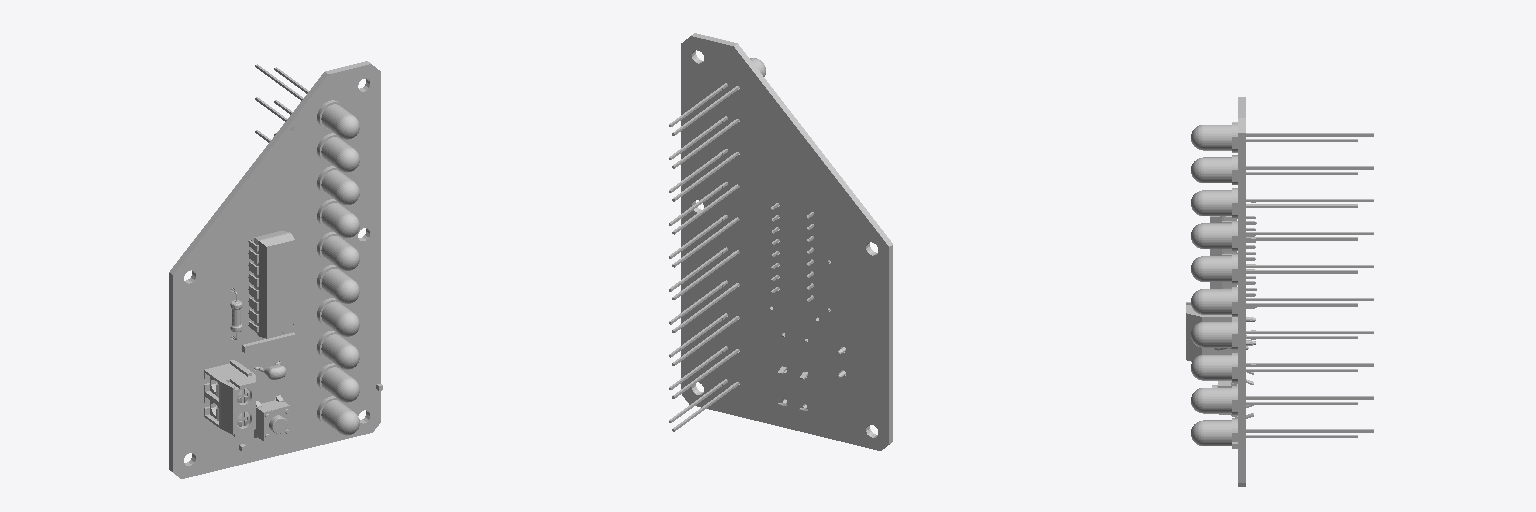
Rendered from Decimal Counter V1 v1.obj.
3 renders of one model, left to right at view 1: azimuth 30°, elevation 25°; view 2: azimuth 150°, elevation 25°; view 3: azimuth 270°, elevation 25°, orthographic.
Parts seen in each view (by area): view 1: Solid1, Solid1:2, Solid1:23, Solid1:26, Solid1:6, Solid1:4, Solid1:10, Solid1:22, Solid1:12, Solid1:14, Solid1:18, Solid1:8 (+2 smaller); view 2: Solid1; view 3: Solid1, Solid1:18, Solid1:10, Solid1:12, Solid1:14, Solid1:16, Solid1:20, Solid1:8, Solid1:6, Solid1:22, Solid1:4, Solid1:23 (+1 smaller).
Part boxes in pixels (left/top/right/bottom): Solid1: left=169, top=61, right=380, bottom=478; Solid1:2: left=248, top=231, right=294, bottom=338; Solid1:23: left=204, top=360, right=255, bottom=436; Solid1:26: left=254, top=395, right=289, bottom=440; Solid1:6: left=317, top=100, right=359, bottom=139; Solid1:4: left=317, top=396, right=359, bottom=435; Solid1:10: left=317, top=331, right=359, bottom=369; Solid1:22: left=317, top=133, right=359, bottom=172; Solid1:12: left=317, top=298, right=359, bottom=336; Solid1:14: left=317, top=265, right=359, bottom=303; Solid1:18: left=317, top=199, right=359, bottom=237; Solid1:8: left=317, top=363, right=359, bottom=402; Solid1: left=681, top=33, right=892, bottom=450; Solid1: left=1238, top=97, right=1245, bottom=486; Solid1:18: left=1191, top=221, right=1237, bottom=250; Solid1:10: left=1191, top=353, right=1237, bottom=382; Solid1:12: left=1191, top=320, right=1237, bottom=349; Solid1:14: left=1191, top=287, right=1237, bottom=316; Solid1:16: left=1191, top=254, right=1237, bottom=283; Solid1:20: left=1191, top=188, right=1237, bottom=217; Solid1:8: left=1191, top=386, right=1237, bottom=415; Solid1:6: left=1191, top=123, right=1237, bottom=152; Solid1:22: left=1191, top=155, right=1237, bottom=184; Solid1:4: left=1191, top=418, right=1237, bottom=445; Solid1:23: left=1186, top=302, right=1237, bottom=361.
Size of the model in its own units: 46.34 by 78.41 by 36.2.